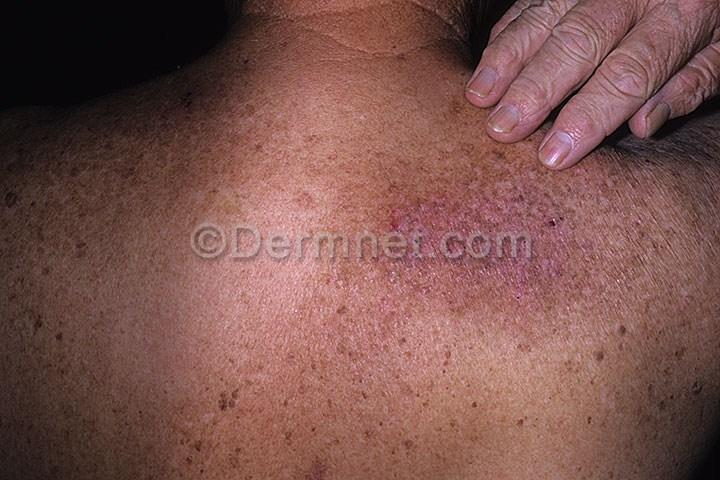Eczema: (222, 263, 392, 445), (393, 260, 566, 401), (563, 159, 697, 322), (385, 142, 562, 234)
